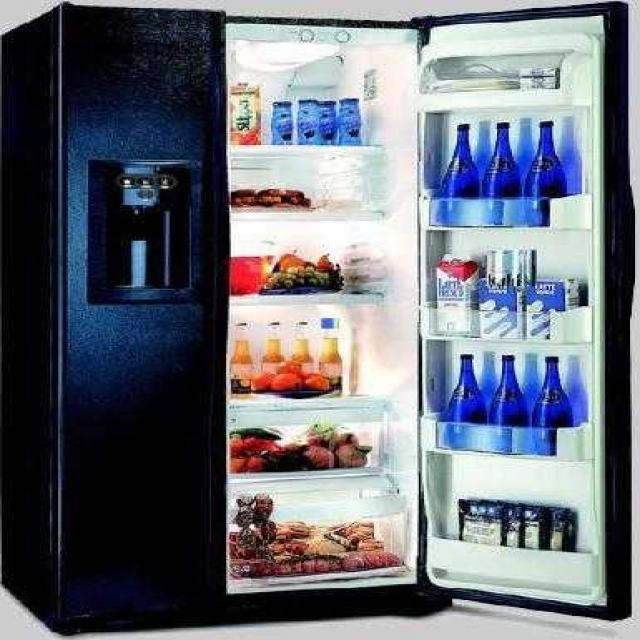refrigerator: (194, 0, 640, 612)
